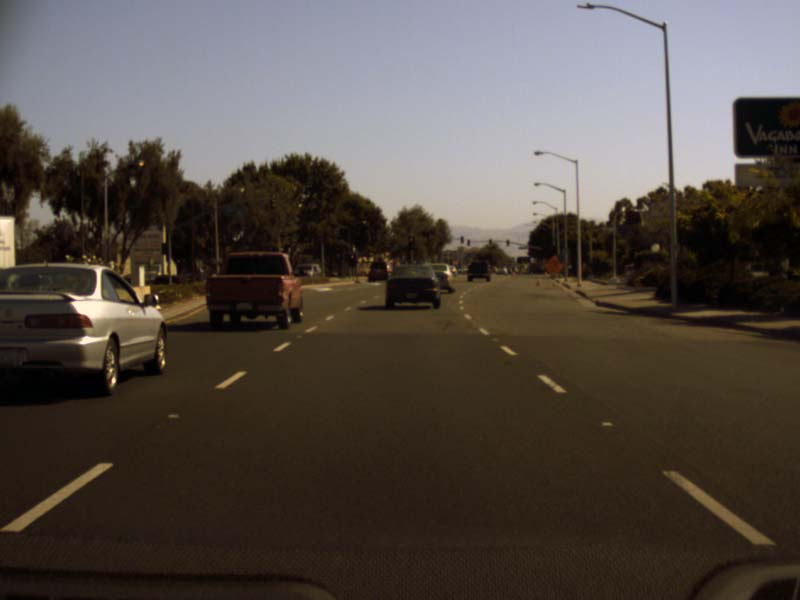Red: (408, 236, 414, 250), (349, 253, 355, 266)
